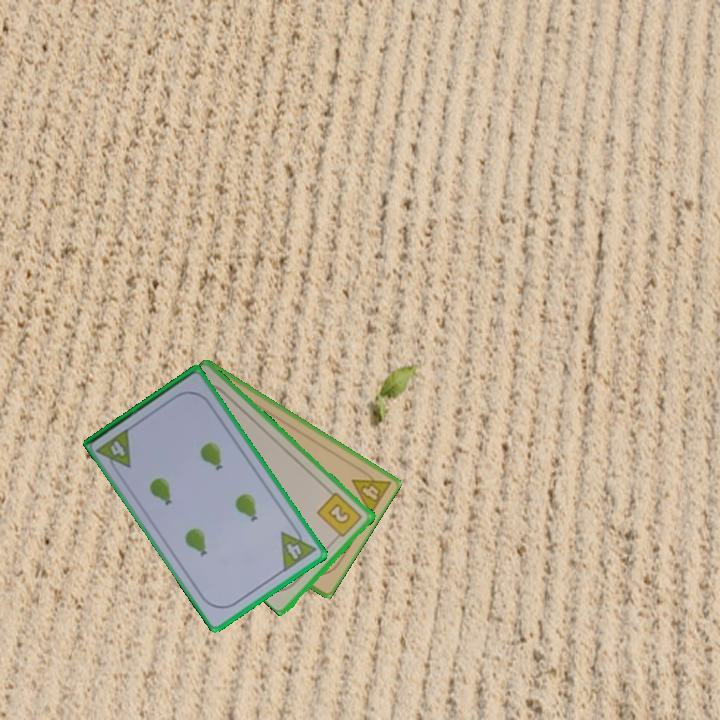2b: (314, 489, 365, 542)
4p: (348, 463, 393, 518), (277, 521, 319, 574), (94, 425, 134, 477)
